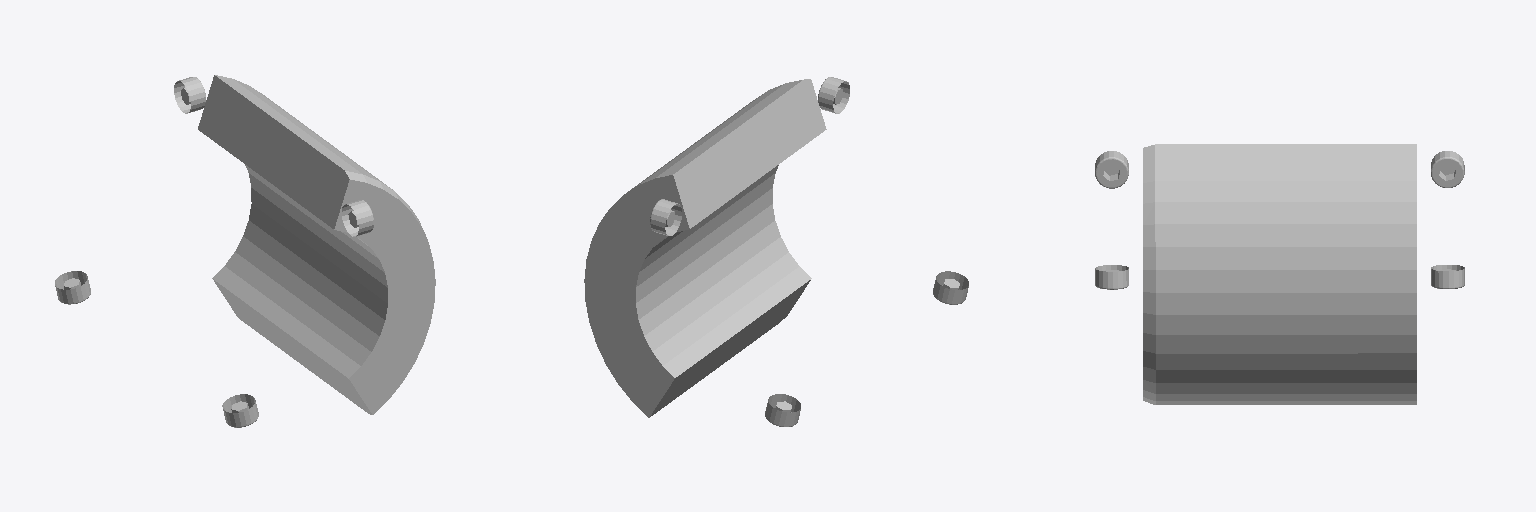
Rendered from anymal_shank_l_2.obj.
3 views of the same model, side by side, from view 1: azimuth 30°, elevation 25°; view 2: azimuth 150°, elevation 25°; view 3: azimuth 270°, elevation 25° (orthographic).
Visible parts, largest first — view 1: anymal_shank_l_2; view 2: anymal_shank_l_2; view 3: anymal_shank_l_2.
Boxes of the visible parts, box(x1,y1,x2,y2) form: anymal_shank_l_2: box(55, 75, 435, 427); anymal_shank_l_2: box(584, 77, 968, 426); anymal_shank_l_2: box(1095, 144, 1464, 404).
Bounding box in the file's own units: 0.0428 × 0.0443 × 0.0595.